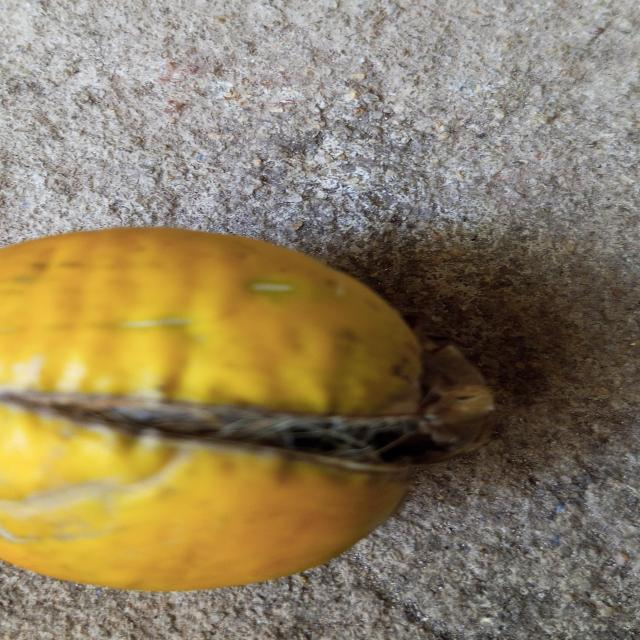damaged: (0, 228, 494, 590)
